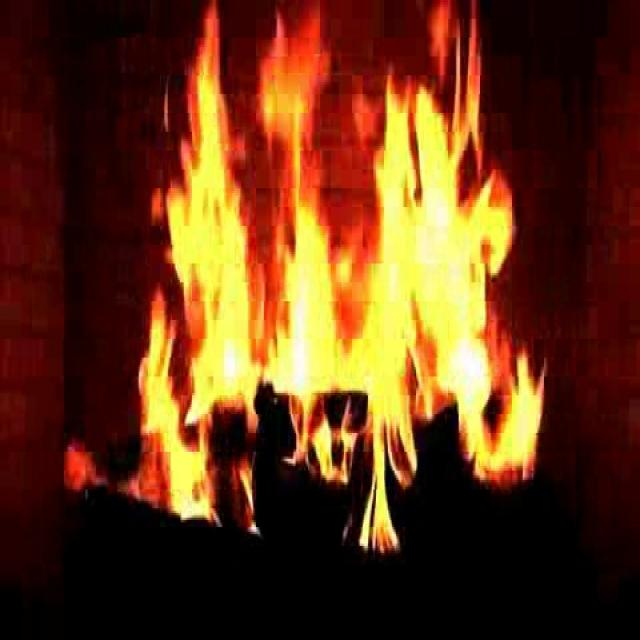Fire: (116, 8, 565, 564)
